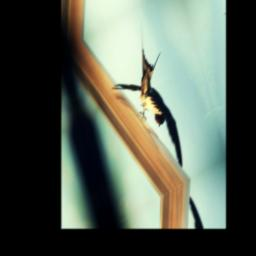Swallow: (101, 15, 192, 195)
